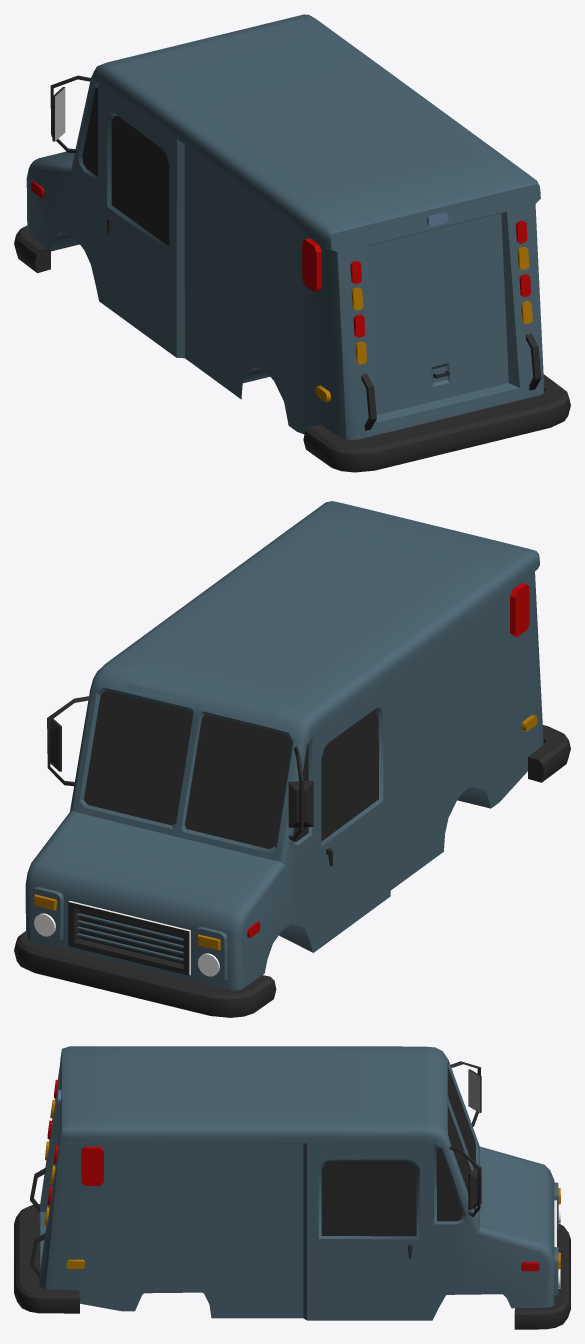
File: truck.fbx
3 renders of one model, top to bottom at view 1: azimuth 30°, elevation 25°; view 2: azimuth 150°, elevation 25°; view 3: azimuth 270°, elevation 25°, orthographic. The views are drawn at different scales.
Parts seen in each view (by area): view 1: truck_body, truck_body.001; view 2: truck_body, truck_body.001; view 3: truck_body, truck_body.001.
Boxes of the visible parts, x1,y1,x2,y2 form: truck_body: (14,14,570,472); truck_body.001: (50,75,169,246); truck_body: (14,501,570,1017); truck_body.001: (47,691,378,849); truck_body: (14,1046,570,1329); truck_body.001: (321,1061,481,1236).
Bounding box in the file's own units: 1543 × 1355 × 3475.
